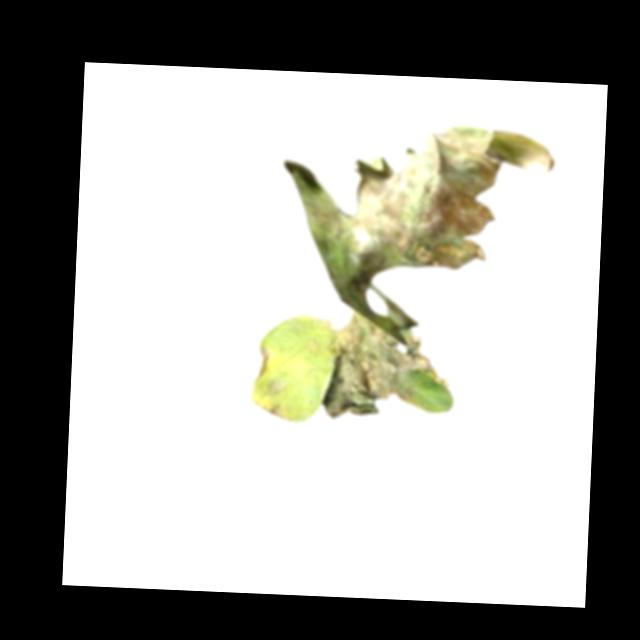Late_blight: (278, 116, 556, 312), (319, 307, 448, 424), (256, 340, 274, 377), (266, 375, 291, 396)
